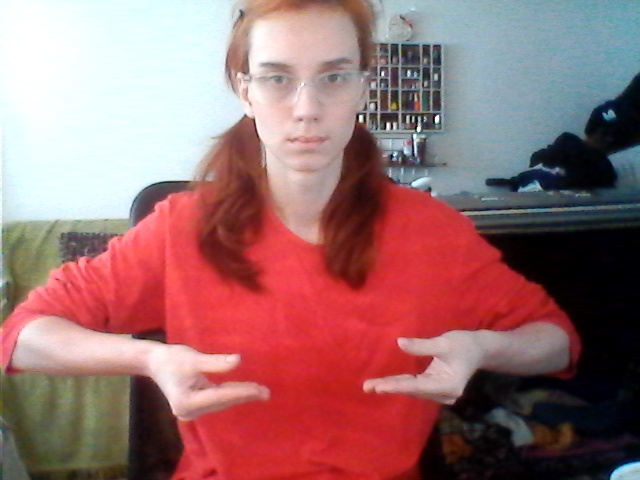drzat: (152, 331, 487, 424)
